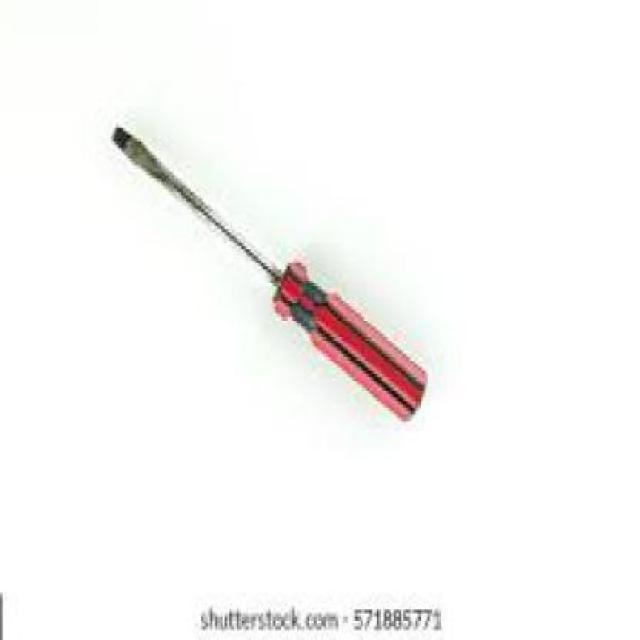screwdriver: (109, 124, 434, 430)
